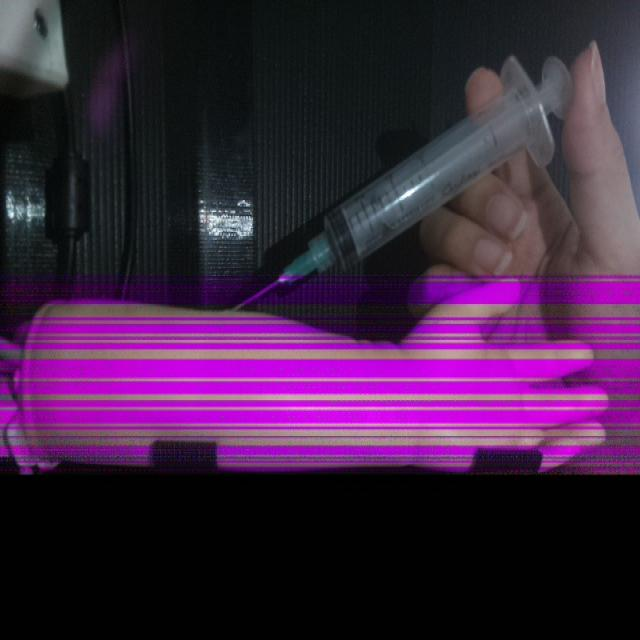Outside: (233, 51, 574, 310)
